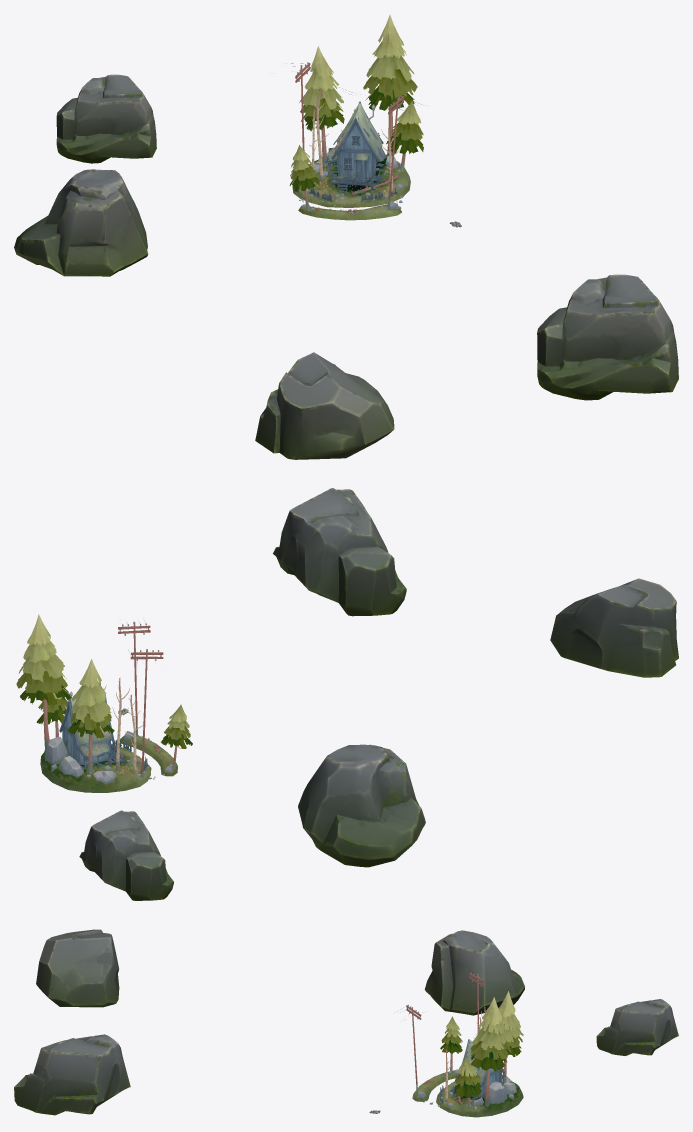
File: forest-house.glb
The picture shows the model from 3 angles, top to bottom: view 1: azimuth 30°, elevation 25°; view 2: azimuth 150°, elevation 25°; view 3: azimuth 270°, elevation 25°; orthographic projection. The views are drawn at different scales.
Parts seen in each view (by area): view 1: Rock_Medium_3, Rock_Medium_2, Rock_Medium_1, Rock_Medium_3.001, RedwoodAlpha_TreeLeafs_0, Ground_Ground_0, House_House_0, BTree_BrichTree_0, Chimney_RoofMoss_0, FenceLeft_WoodFence_0, Grass.Ground_GrassALPHA_0, HouseFence_WoodPlanks_0; view 2: Rock_Medium_1, Rock_Medium_3, Rock_Medium_2, RedwoodAlpha_TreeLeafs_0, Rock_Medium_3.001, Ground_Ground_0, Rocks_BigRock_0, BTree_BrichTree_0, FenceLeft_WoodFence_0, House_House_0, Chimney_RoofMoss_0; view 3: Rock_Medium_3, Rock_Medium_1, Rock_Medium_2, RedwoodAlpha_TreeLeafs_0, Rock_Medium_3.001, Ground_Ground_0, Rocks_BigRock_0, FenceLeft_WoodFence_0, BTree_BrichTree_0, House_House_0.
Boxes of the visible parts, x1,y1,x2,y2 form: Rock_Medium_3: (537,274,678,400); Rock_Medium_2: (255,352,394,459); Rock_Medium_1: (14,169,148,276); Rock_Medium_3.001: (56,74,156,163); RedwoodAlpha_TreeLeafs_0: (289,14,423,192); Ground_Ground_0: (292,156,410,220); House_House_0: (331,101,383,179); BTree_BrichTree_0: (300,87,405,210); Chimney_RoofMoss_0: (325,103,383,163); FenceLeft_WoodFence_0: (295,62,404,213); Grass.Ground_GrassALPHA_0: (291,63,422,217); HouseFence_WoodPlanks_0: (330,160,384,192); Rock_Medium_1: (298,744,425,867); Rock_Medium_3: (273,488,406,616); Rock_Medium_2: (550,578,678,677); RedwoodAlpha_TreeLeafs_0: (16,614,192,748); Rock_Medium_3.001: (79,810,173,900); Ground_Ground_0: (40,736,177,792); Rocks_BigRock_0: (45,731,172,783); BTree_BrichTree_0: (35,678,180,775); FenceLeft_WoodFence_0: (113,621,171,776); House_House_0: (59,694,114,765); Chimney_RoofMoss_0: (64,691,113,758); Rock_Medium_3: (14,1034,130,1115); Rock_Medium_1: (424,930,524,1015); Rock_Medium_2: (36,929,119,1007); RedwoodAlpha_TreeLeafs_0: (440,991,523,1097); Rock_Medium_3.001: (596,999,678,1055); Ground_Ground_0: (412,1071,523,1117); Rocks_BigRock_0: (417,1069,516,1109); FenceLeft_WoodFence_0: (406,972,484,1102); BTree_BrichTree_0: (445,1007,506,1108); House_House_0: (458,1039,504,1098).
Bounding box in the file's own units: 10.89 × 4.24 × 19.78.
Materials: 15 (15 with a texture image).
